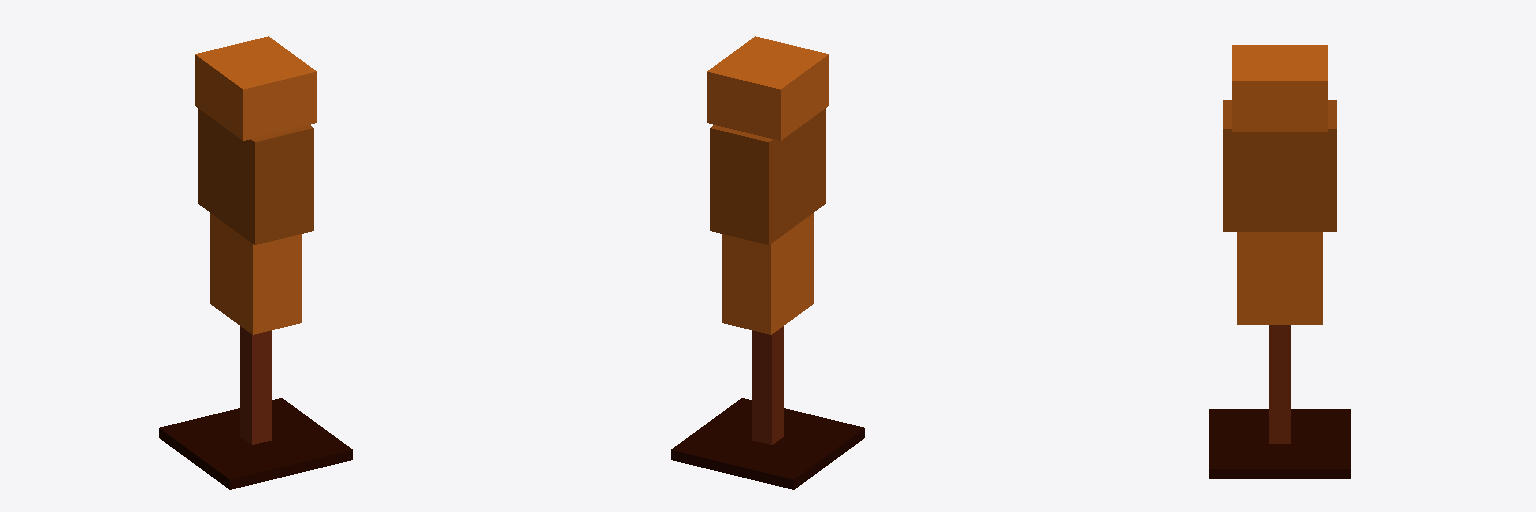
Rendered from dummy.obj.
3 renders of one model, left to right at view 1: azimuth 30°, elevation 25°; view 2: azimuth 150°, elevation 25°; view 3: azimuth 270°, elevation 25°, orthographic.
Parts seen in each view (by area): view 1: Cube; view 2: Cube; view 3: Cube.
Boxes of the visible parts, x1=… form: Cube: x1=159, y1=36, x2=352, y2=489; Cube: x1=671, y1=36, x2=864, y2=489; Cube: x1=1209, y1=45, x2=1350, y2=478.
Size of the model in its own units: 1.25 by 3.75 by 1.25.